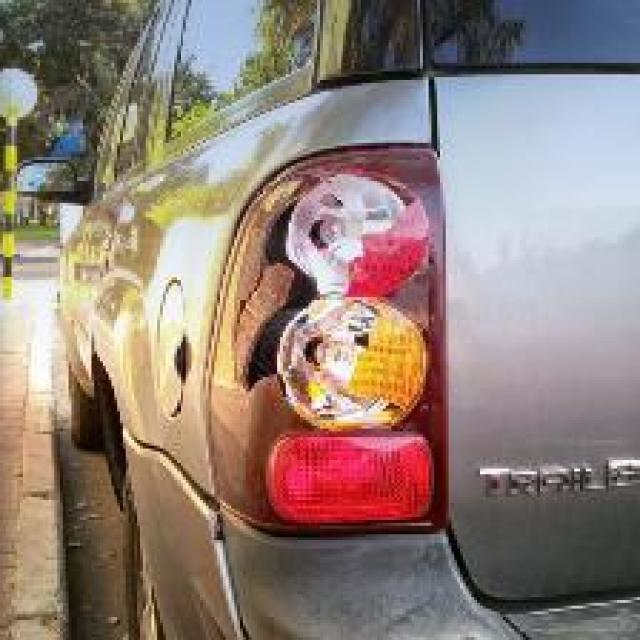damaged: (241, 175, 428, 452)
